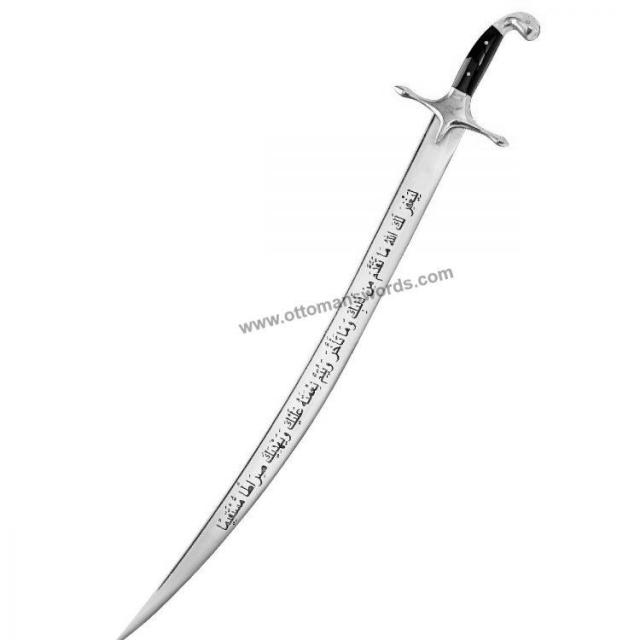Knife: (61, 2, 520, 638)
